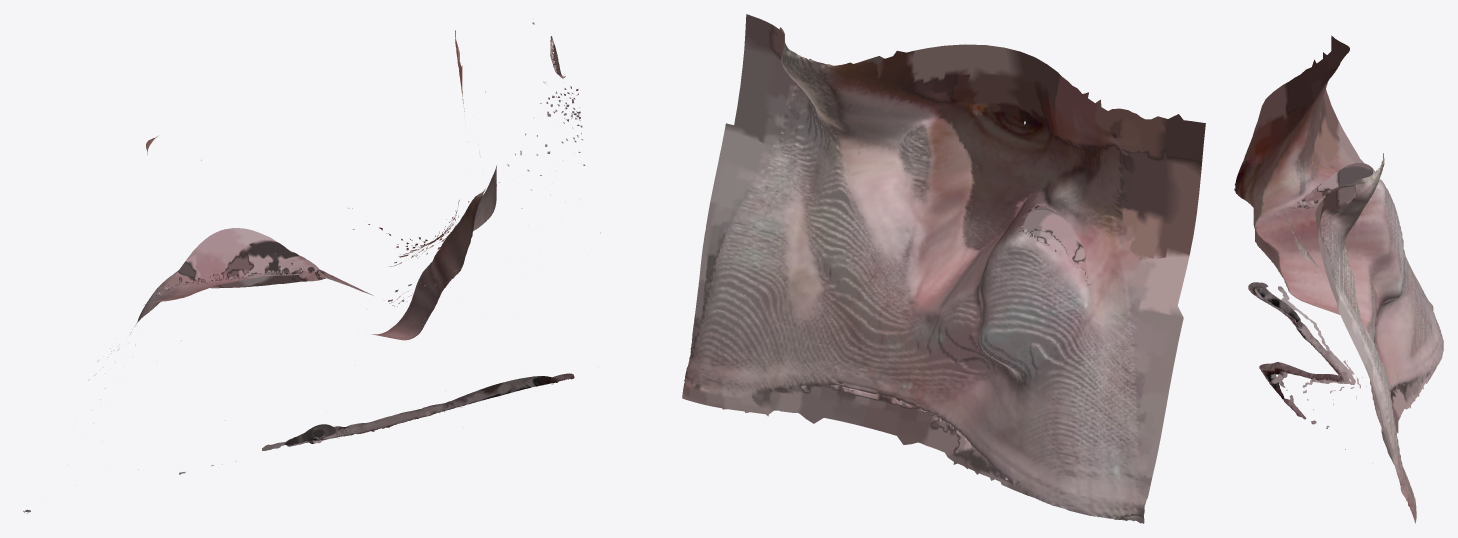
The model's file is lesion (2).gltf.
3 views of the same model, side by side, from view 1: azimuth 30°, elevation 25°; view 2: azimuth 150°, elevation 25°; view 3: azimuth 270°, elevation 25° (orthographic). The views are drawn at different scales.
Size of the model in its own units: 0.00148 by 0.00106 by 0.000635.
